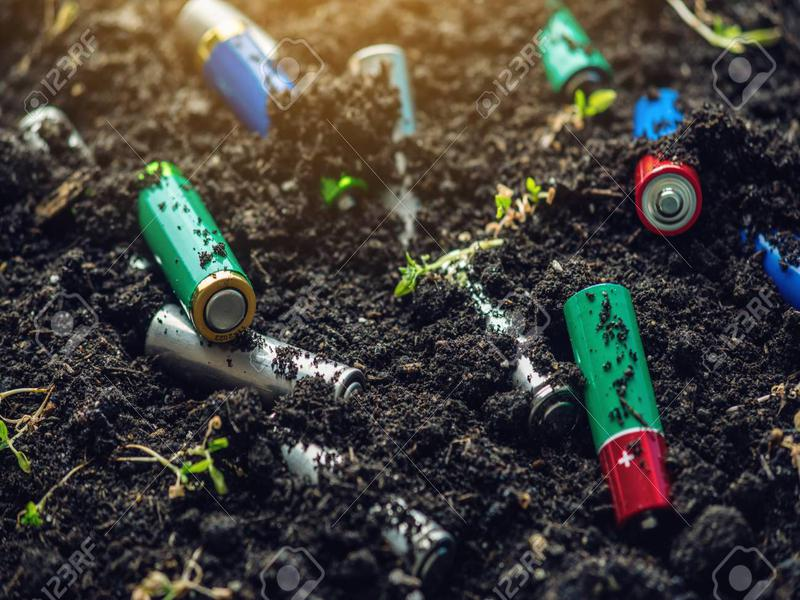battery: (560, 280, 682, 539), (136, 298, 370, 425), (121, 157, 263, 344), (628, 86, 705, 244)
